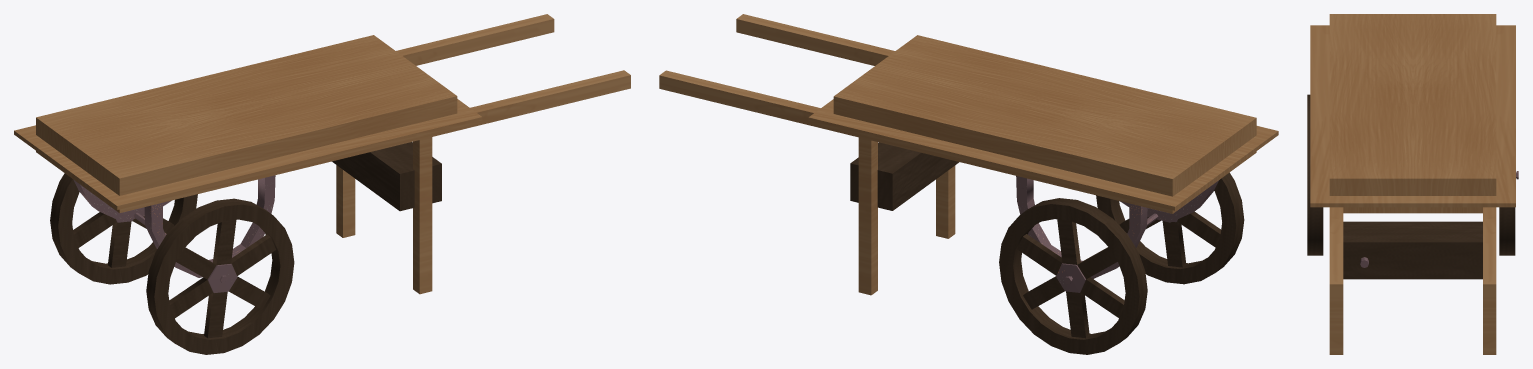
Rendered from Market stall.fbx.
3 renders of one model, left to right at view 1: azimuth 30°, elevation 25°; view 2: azimuth 150°, elevation 25°; view 3: azimuth 270°, elevation 25°, orthographic.
Visible parts, largest first — view 1: pPipe6; view 2: pPipe6; view 3: pPipe6.
Boxes of the visible parts, x1=… form: pPipe6: x1=14, y1=14, x2=630, y2=354; pPipe6: x1=659, y1=14, x2=1278, y2=354; pPipe6: x1=1307, y1=14, x2=1518, y2=354.
Size of the model in its own units: 138 by 47.62 by 48.39.
